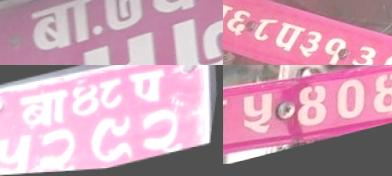0: (330, 76, 375, 128)
1: (323, 36, 355, 65)
2: (135, 105, 194, 161), (35, 125, 85, 174)
3: (298, 28, 329, 59), (350, 44, 384, 65)
4: (290, 84, 334, 133), (66, 80, 106, 121), (367, 71, 392, 126)
5: (77, 31, 176, 65), (233, 90, 288, 145), (0, 131, 42, 176)
6: (226, 8, 254, 35)
7: (162, 1, 223, 65), (95, 0, 154, 38)
8: (94, 76, 129, 112), (253, 15, 282, 42)
9: (84, 111, 141, 169)
ba: (24, 0, 107, 61), (13, 86, 74, 133), (223, 0, 237, 31)
cha: (142, 0, 219, 24)
pa: (124, 67, 170, 110), (273, 18, 310, 54), (223, 93, 239, 152)
